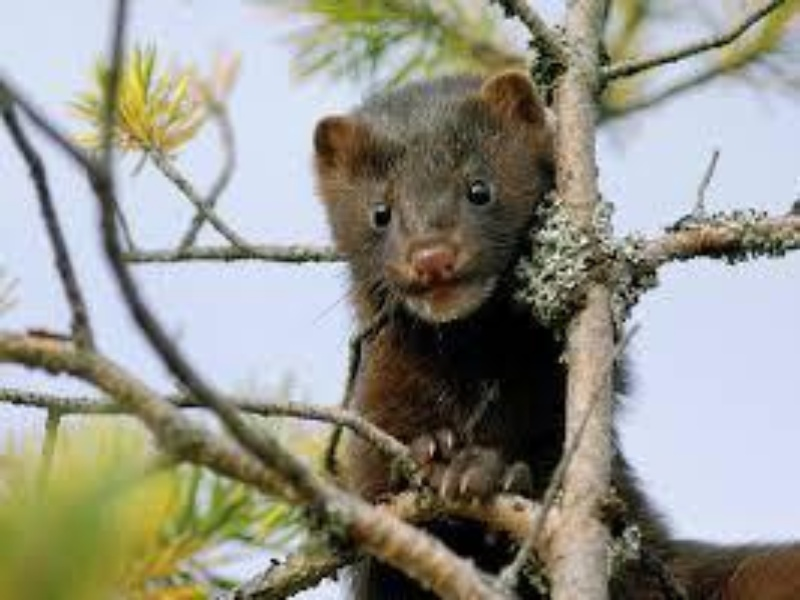minkish: (304, 66, 676, 600)
